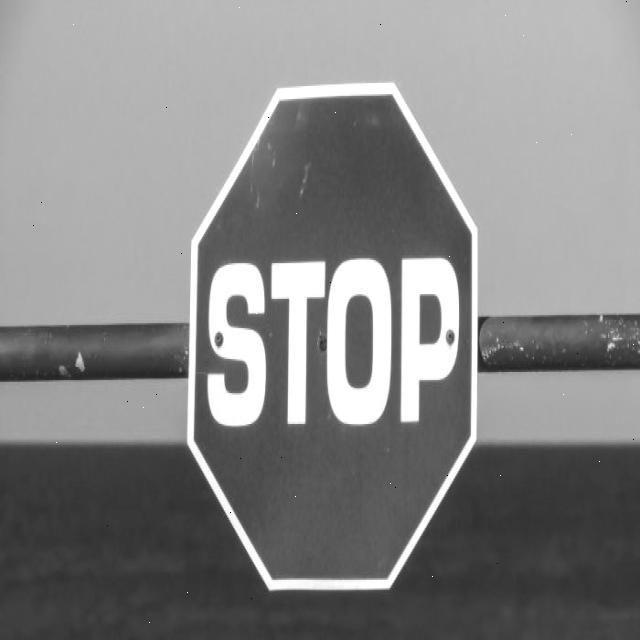Stop-sign: (181, 72, 486, 608)
